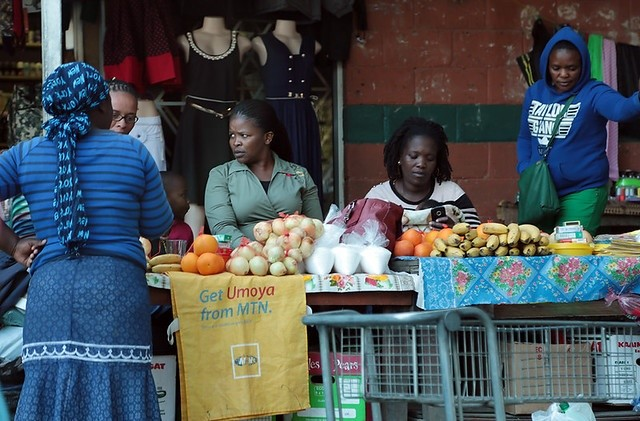face_no_mask: (387, 118, 446, 184), (224, 102, 273, 161), (545, 39, 584, 93)
